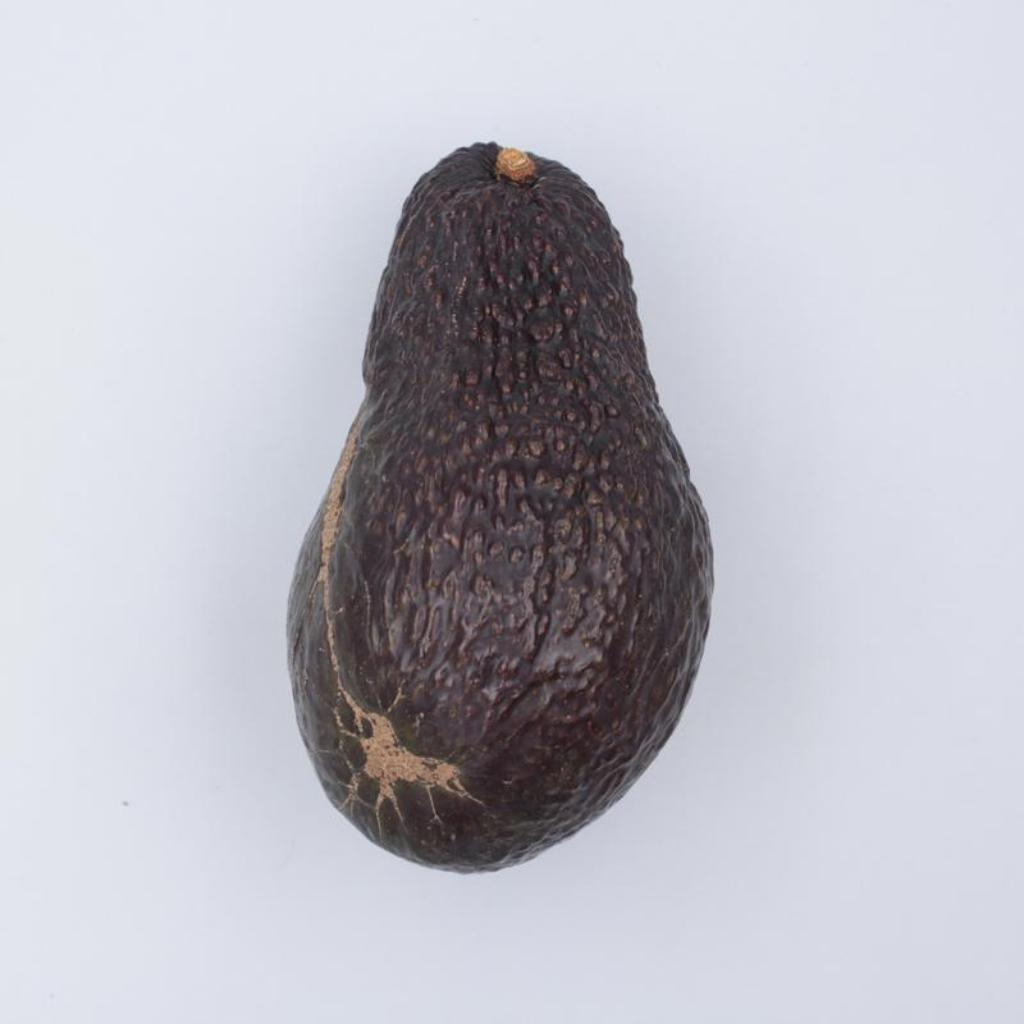scab: (288, 143, 712, 870)
